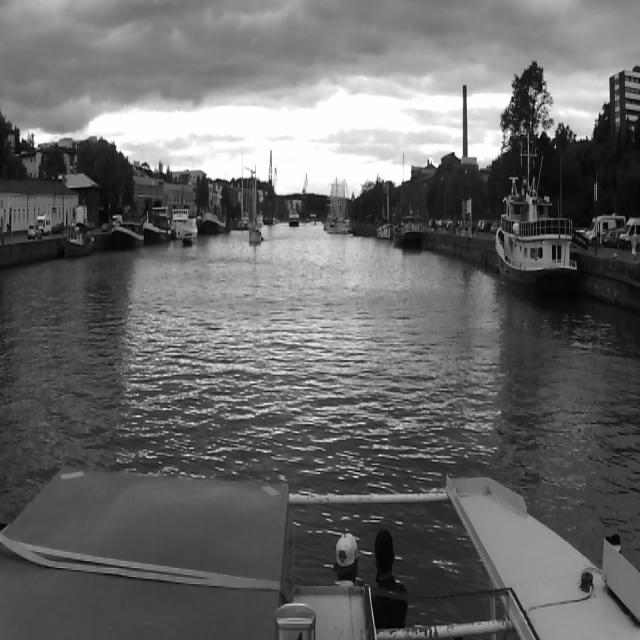ship: (494, 175, 580, 300), (376, 180, 397, 242), (393, 210, 422, 252), (246, 174, 262, 244), (200, 201, 230, 237), (109, 224, 145, 252), (63, 229, 97, 257), (169, 207, 197, 238), (144, 209, 170, 242), (348, 215, 379, 239), (290, 212, 300, 230), (259, 231, 265, 241)
